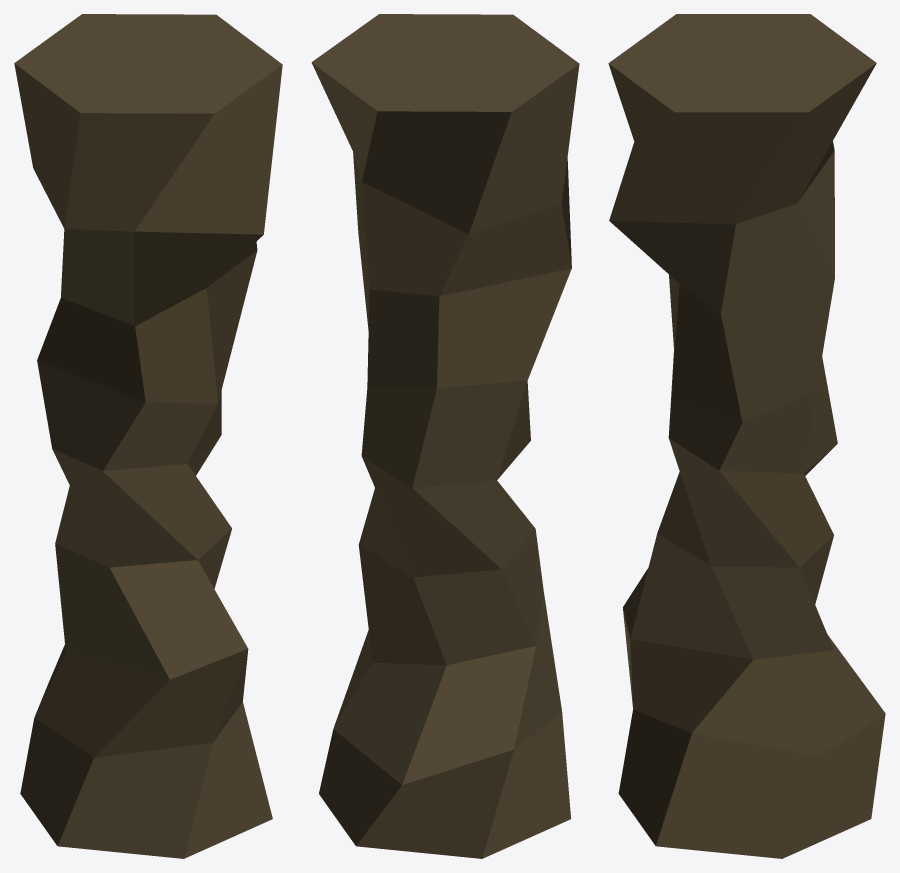
Rendered from BigPillar.1.fbx.
3 views of the same model, side by side, from view 1: azimuth 30°, elevation 25°; view 2: azimuth 150°, elevation 25°; view 3: azimuth 270°, elevation 25° (orthographic).
Visible parts, largest first — view 1: Big_Pillar.1; view 2: Big_Pillar.1; view 3: Big_Pillar.1.
Boxes of the visible parts, <box> form: Big_Pillar.1: <box>14,14,282,858</box>; Big_Pillar.1: <box>311,14,579,858</box>; Big_Pillar.1: <box>608,14,885,858</box>.
Size of the model in its own units: 394 by 1301 by 439.
